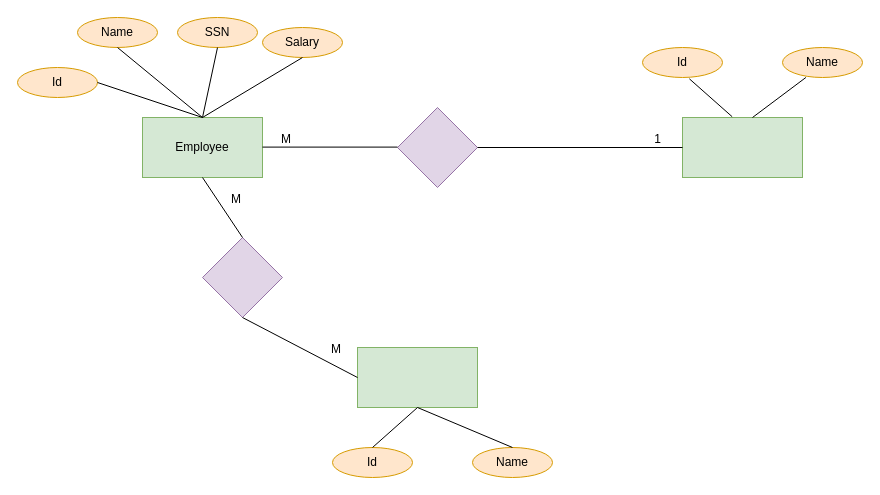
This 880x495 diagram has some shape labels left out. The centre of each missing label's shape, as x and y in pixels:
"Department" belongs at point (742, 147).
"Project" belongs at point (417, 377).
"work" belongs at point (437, 147).
"work on" belongs at point (242, 277).
